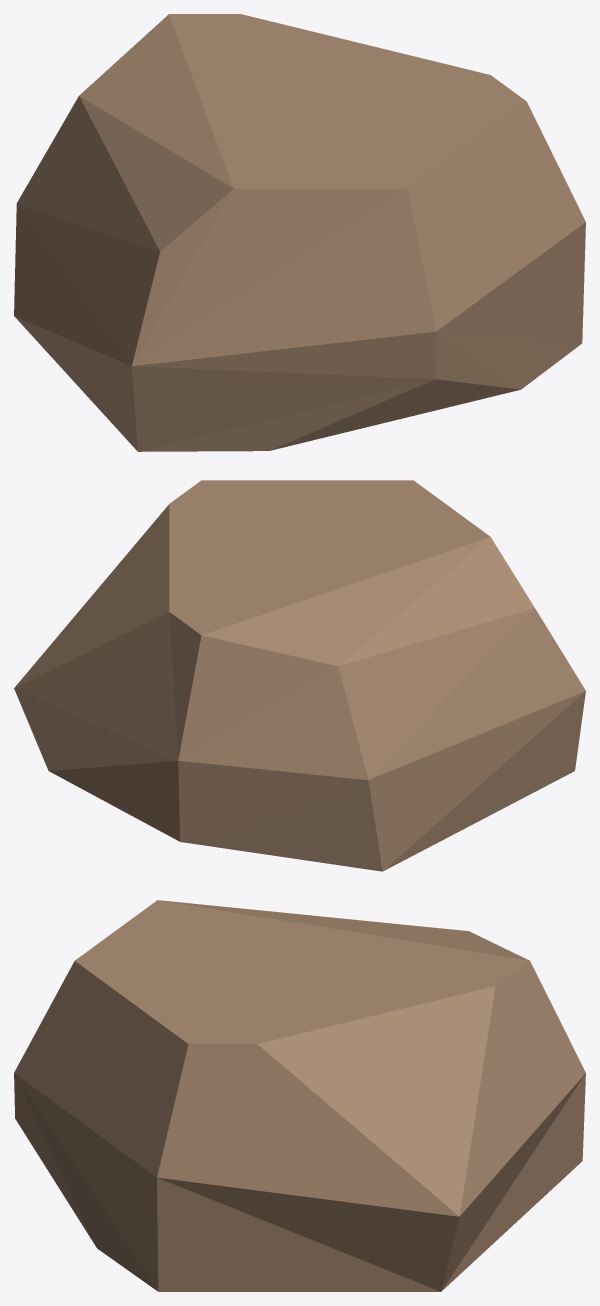
The model's file is TB_Env_Rock6_E.FBX.
The picture shows the model from 3 angles, top to bottom: view 1: azimuth 30°, elevation 25°; view 2: azimuth 150°, elevation 25°; view 3: azimuth 270°, elevation 25°; orthographic projection. The views are drawn at different scales.
Visible parts, largest first — view 1: TB_Env_Rock6_E; view 2: TB_Env_Rock6_E; view 3: TB_Env_Rock6_E.
Boxes of the visible parts, box(x1,y1,x2,y2) form: TB_Env_Rock6_E: box(14, 14, 585, 451); TB_Env_Rock6_E: box(14, 480, 585, 871); TB_Env_Rock6_E: box(14, 900, 585, 1291).
Bounding box in the file's own units: 0.9787 × 0.465 × 1.05.
